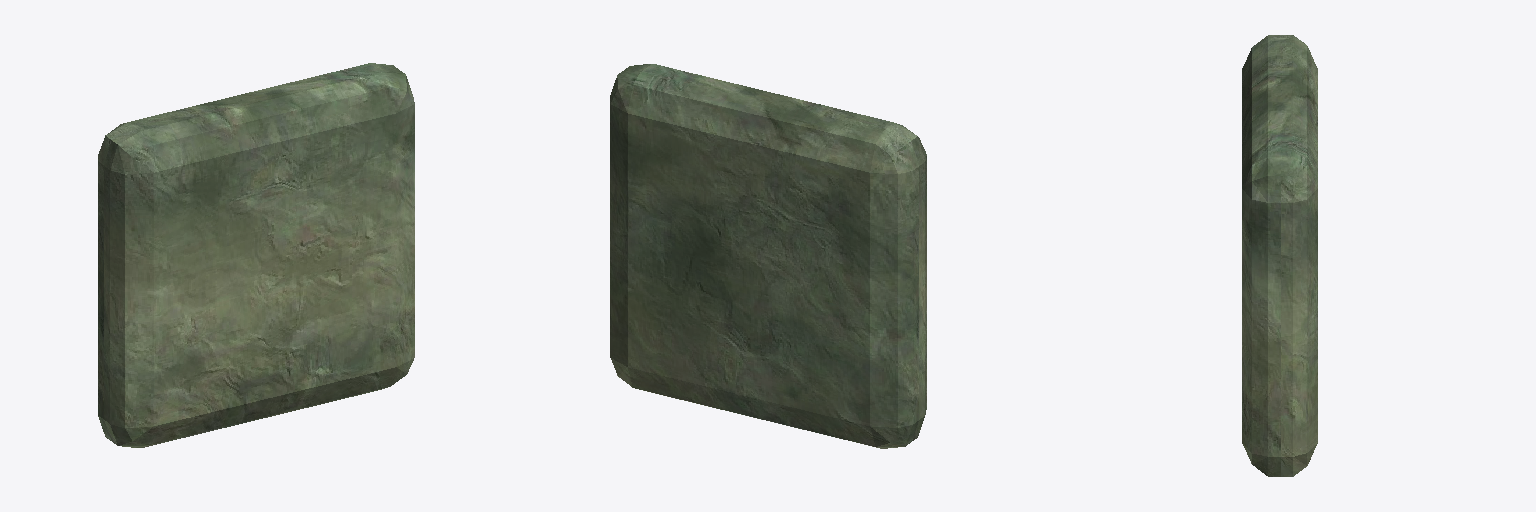
3 views of the same model, side by side, from view 1: azimuth 30°, elevation 25°; view 2: azimuth 150°, elevation 25°; view 3: azimuth 270°, elevation 25° (orthographic).
Visible parts, largest first — view 1: Cube; view 2: Cube; view 3: Cube.
Part boxes in pixels (x1,y1,x2,y2): Cube: (98,63,414,447); Cube: (610,64,926,448); Cube: (1242,35,1317,476).
Size of the model in its own units: 1 by 1 by 0.2182.
1 materials, 1 textured.